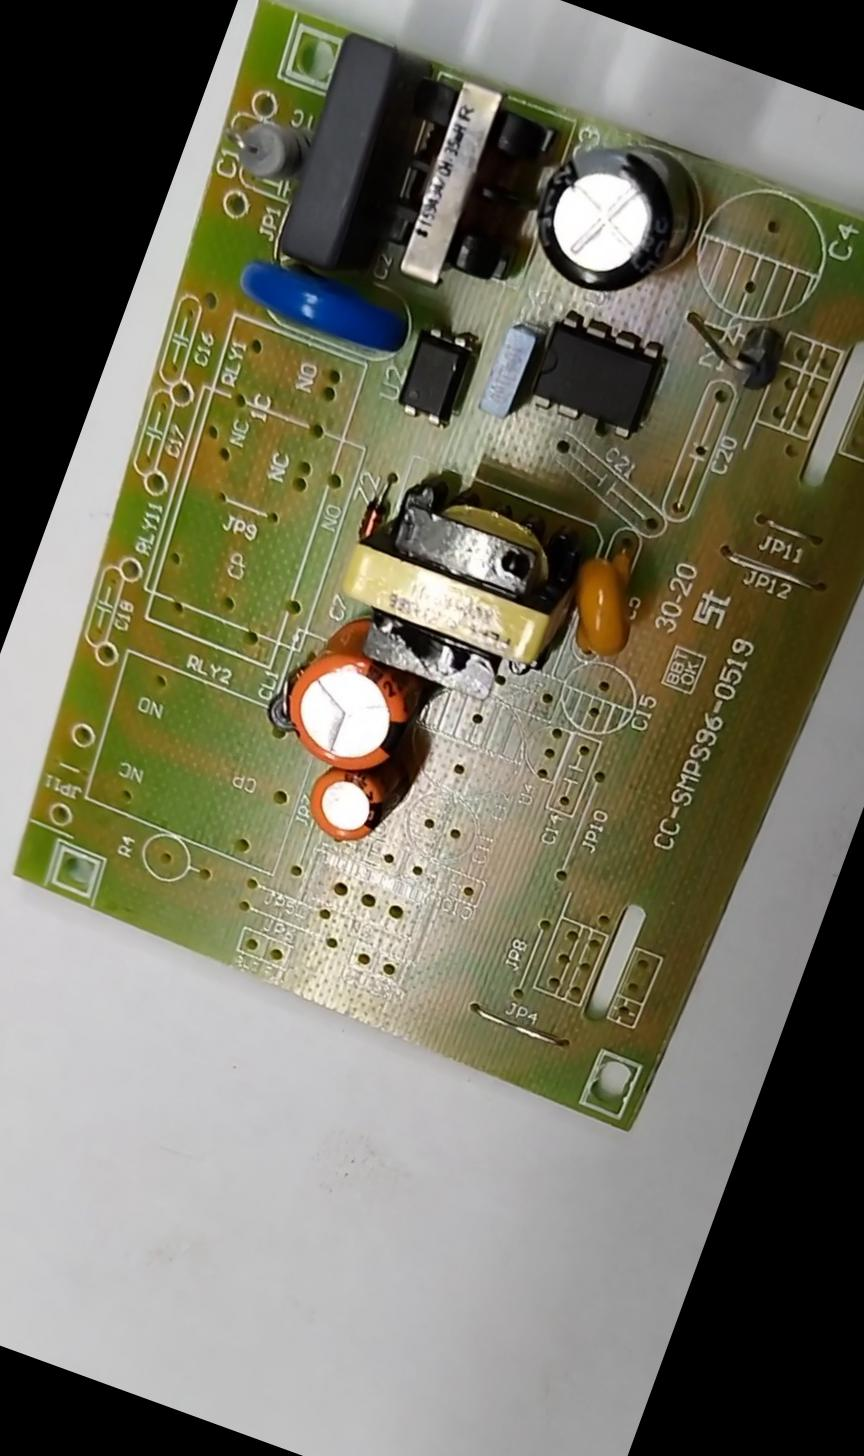Cap1: (274, 643, 421, 782)
Cap2: (299, 765, 390, 849)
Cap3: (518, 129, 691, 310)
MOSFET: (525, 307, 671, 445)
Mov: (231, 252, 412, 359)
Resistor: (220, 111, 305, 186)
Transformer: (326, 456, 580, 696), (368, 71, 563, 300)
